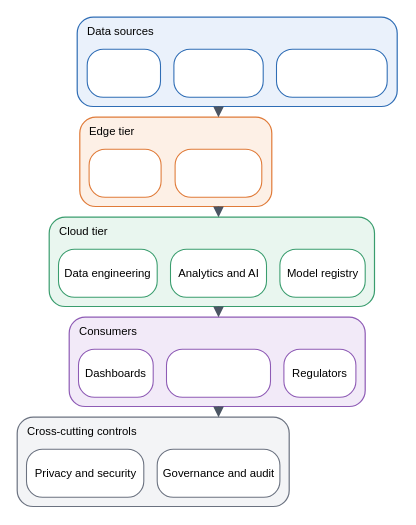
Some shapes in this 416 by 525 pixel diagram are drawn without their labels. The centre of each missing label's shape, as x and y in pixels:
"Decision services" belongs at point (218, 372).
"Edge AI nodes" belongs at point (218, 172).
"Enterprise systems" belongs at point (331, 72).
"Gateways" belongs at point (124, 172).
"IoT sensors" belongs at point (123, 72).
"Mobile devices" belongs at point (218, 72).
